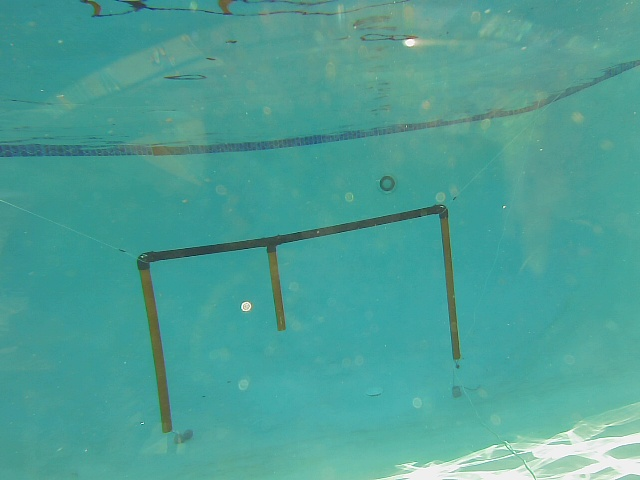Gate: (137, 265, 176, 437), (439, 214, 462, 365), (265, 248, 287, 333)
